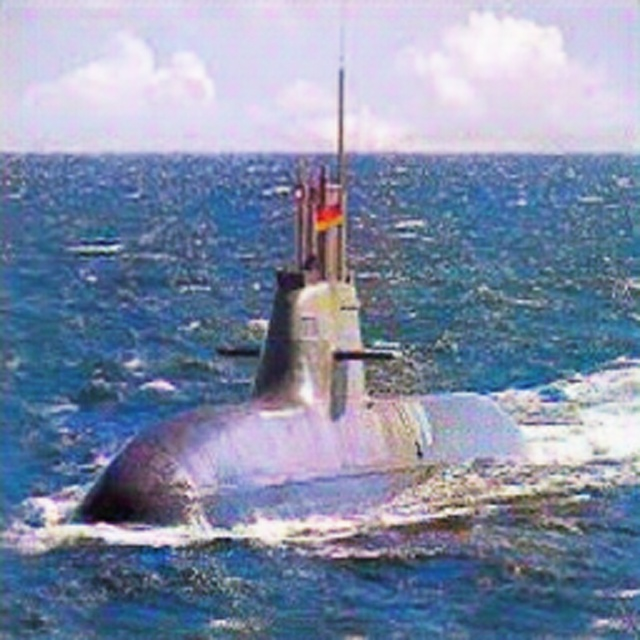submarine: (79, 147, 528, 523)
